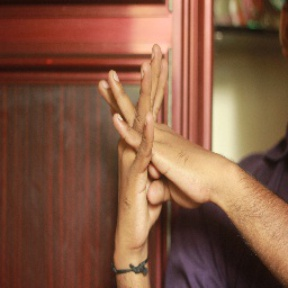W: (87, 41, 213, 224)
